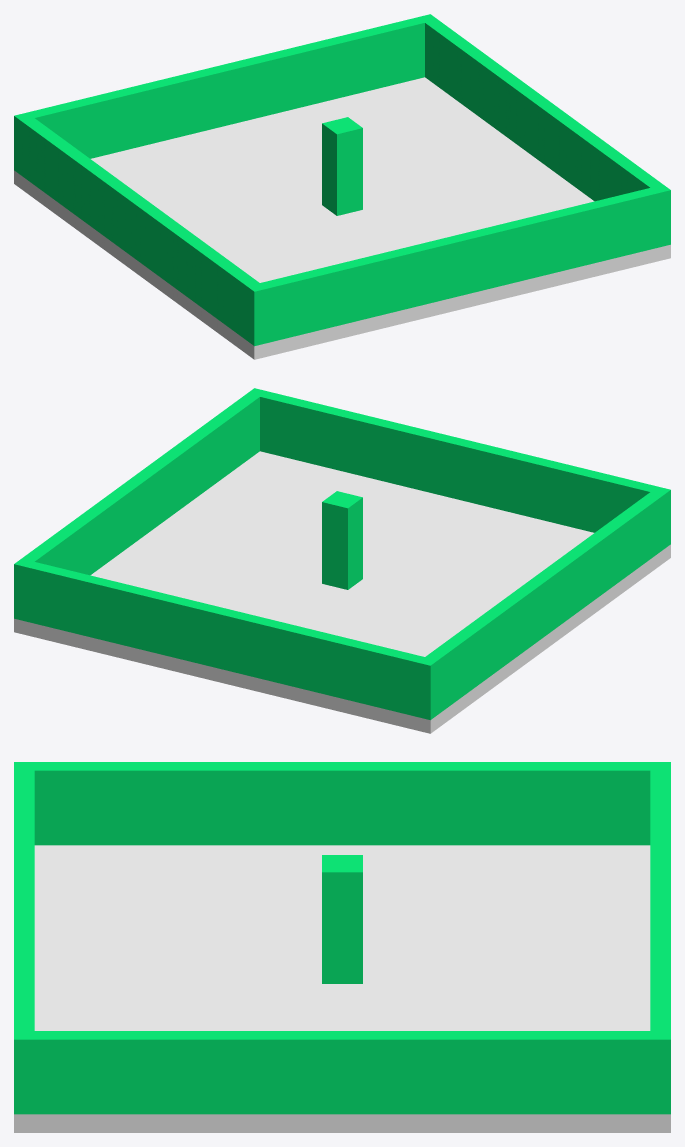
Rendered from map.gltf.
The picture shows the model from 3 angles, top to bottom: view 1: azimuth 30°, elevation 25°; view 2: azimuth 150°, elevation 25°; view 3: azimuth 270°, elevation 25°; orthographic projection. The views are drawn at different scales.
Bounding box in the file's own units: 32 × 7 × 32.
Materials: 2 (2 with a texture image).
